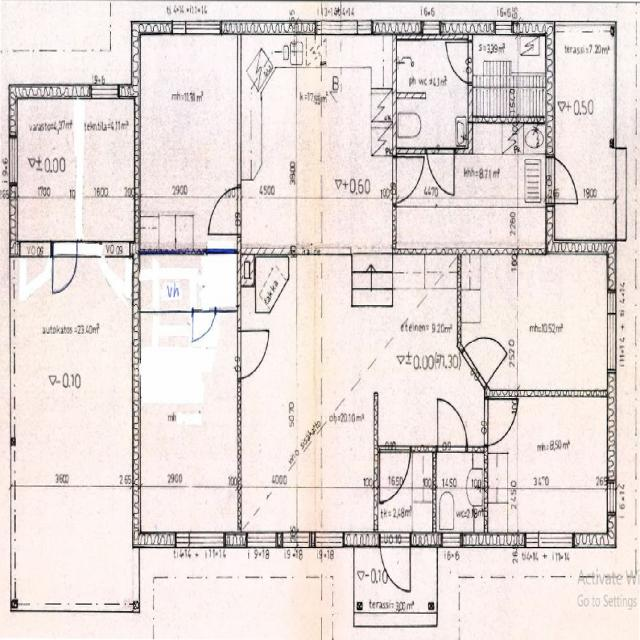door: (462, 313, 509, 389), (380, 534, 410, 598), (380, 447, 411, 502), (546, 158, 583, 203), (438, 399, 467, 453), (238, 332, 270, 378), (209, 188, 241, 234), (484, 400, 516, 445), (427, 148, 455, 199), (393, 157, 424, 202), (52, 241, 76, 296), (443, 43, 473, 83), (193, 307, 215, 349)
